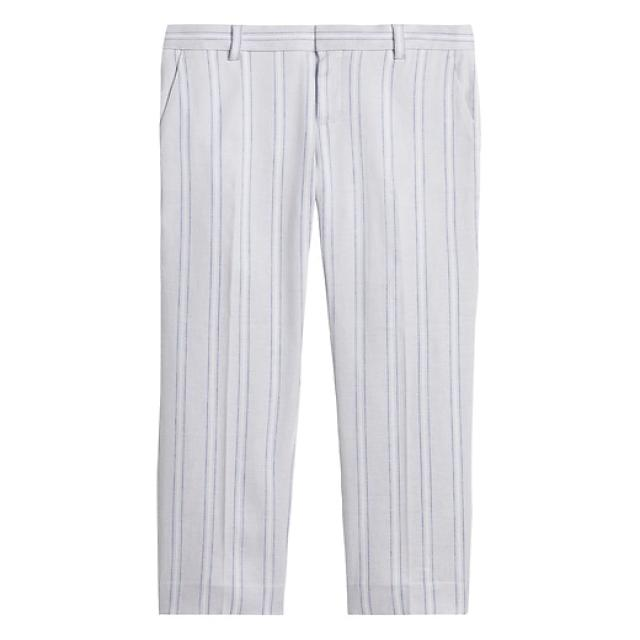long-pants: (156, 23, 481, 621)
